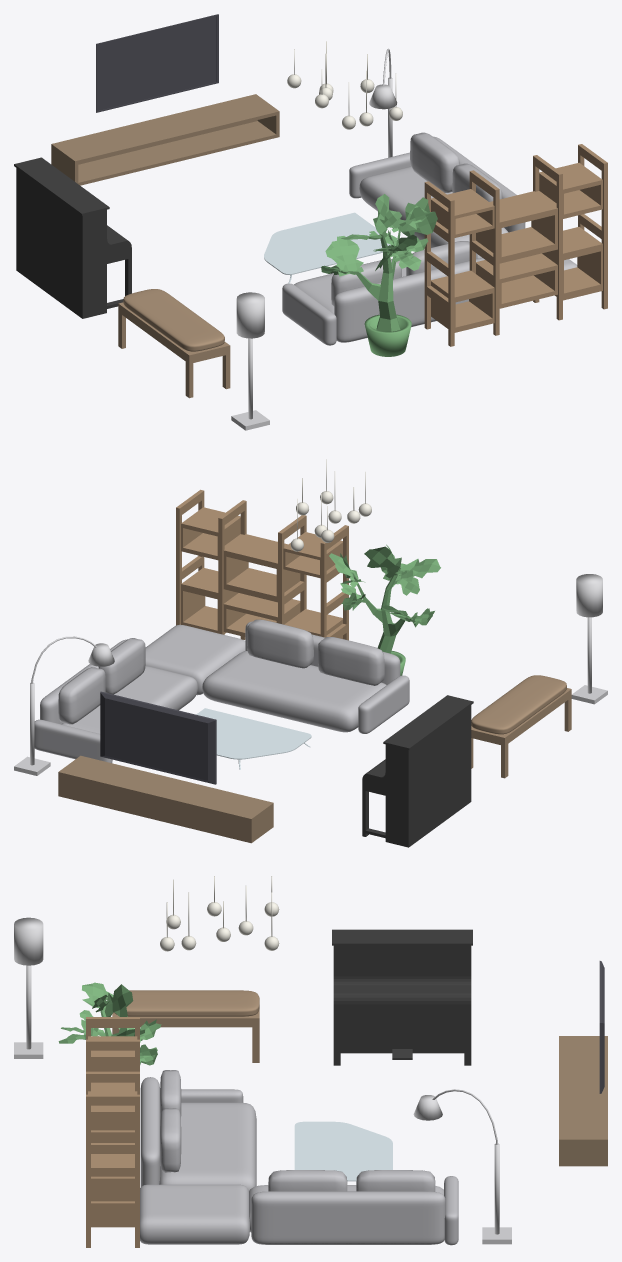
The model's file is golden_scene.glb.
3 renders of one model, top to bottom at view 1: azimuth 30°, elevation 25°; view 2: azimuth 150°, elevation 25°; view 3: azimuth 270°, elevation 25°, orthographic. The views are drawn at different scales.
Visible parts, largest first — view 1: Shelf, Sofa, Piano, TV_Stand, TV, Plant, Bench, Table, Lamp_Standing, Pendant, Lamp_Arc; view 2: Sofa, Shelf, Piano, TV_Stand, TV, Bench, Plant, Table, Lamp_Standing, Lamp_Arc, Pendant; view 3: Sofa, Piano, Shelf, TV_Stand, Bench, Table, Plant, Lamp_Standing, Lamp_Arc, Pendant, TV.
Part boxes in pixels (bbox=[...]): Shelf: bbox=[424, 144, 607, 346]; Sofa: bbox=[282, 132, 577, 345]; Piano: bbox=[14, 157, 131, 318]; TV_Stand: bbox=[51, 94, 279, 185]; TV: bbox=[96, 14, 218, 112]; Plant: bbox=[321, 194, 437, 356]; Bench: bbox=[118, 289, 230, 398]; Table: bbox=[264, 212, 390, 283]; Lamp_Standing: bbox=[231, 292, 269, 430]; Pendant: bbox=[287, 41, 402, 129]; Lamp_Arc: bbox=[369, 48, 397, 157]; Sofa: bbox=[34, 619, 409, 763]; Shelf: bbox=[176, 489, 348, 640]; Piano: bbox=[362, 695, 473, 847]; TV_Stand: bbox=[58, 755, 273, 843]; TV: bbox=[100, 691, 216, 784]; Bench: bbox=[471, 675, 571, 778]; Plant: bbox=[329, 544, 440, 675]; Table: bbox=[196, 708, 311, 769]; Lamp_Standing: bbox=[571, 574, 607, 704]; Lamp_Arc: bbox=[14, 636, 114, 775]; Pendant: bbox=[290, 459, 371, 551]; Sofa: bbox=[140, 1070, 458, 1245]; Piano: bbox=[332, 929, 472, 1065]; Shelf: bbox=[86, 1017, 139, 1247]; TV_Stand: bbox=[559, 1036, 607, 1166]; Bench: bbox=[112, 990, 259, 1062]; Table: bbox=[294, 1121, 392, 1181]; Plant: bbox=[58, 982, 161, 1065]; Lamp_Standing: bbox=[14, 917, 43, 1058]; Lamp_Arc: bbox=[413, 1089, 511, 1244]; Pendant: bbox=[160, 876, 279, 951]; TV: bbox=[599, 961, 604, 1093].
Bounding box in the file's own units: 5 × 2.9 × 6.05.
